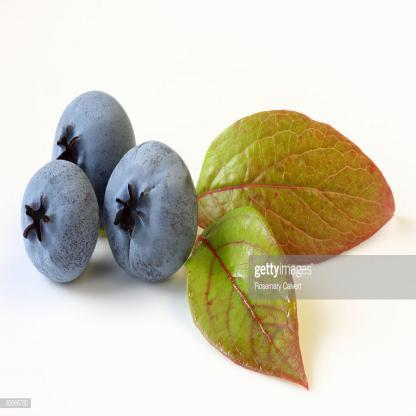Blueberry leaf: (193, 95, 405, 277), (184, 214, 320, 398)
